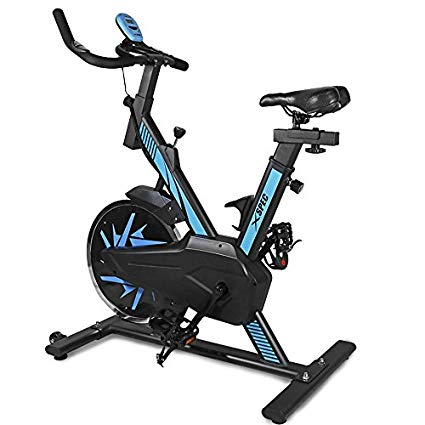gym_bike: (39, 13, 363, 424)
